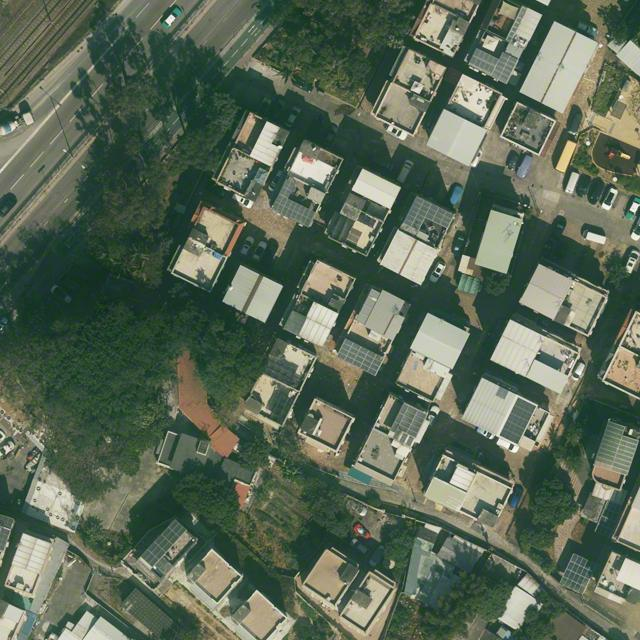panel: (140, 519, 187, 568), (271, 180, 316, 226), (337, 339, 385, 376), (469, 49, 519, 83), (404, 197, 455, 230), (500, 397, 535, 444), (390, 404, 427, 447), (559, 553, 597, 594)
